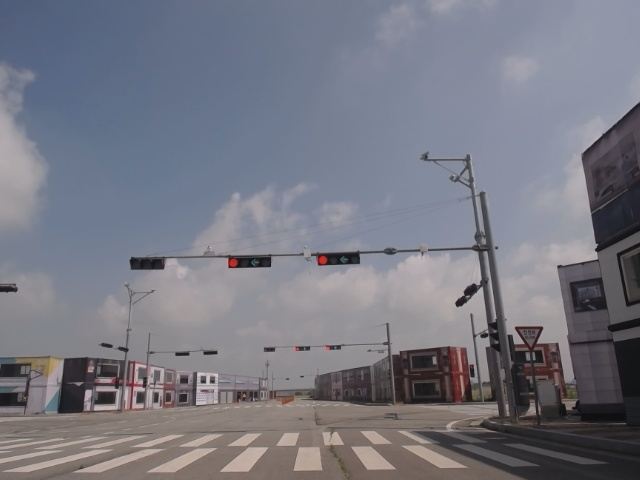left_green_4: (227, 256, 272, 268), (317, 253, 361, 265)
